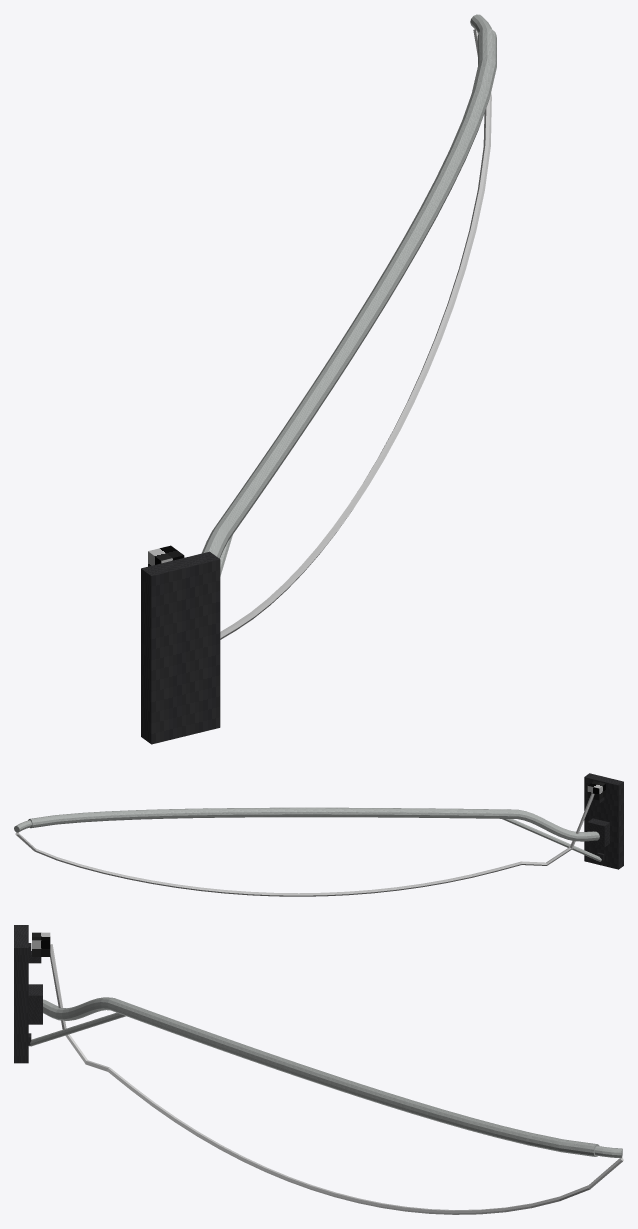
File: arm_6_right_wired.obj
3 renders of one model, top to bottom at view 1: azimuth 30°, elevation 25°; view 2: azimuth 150°, elevation 25°; view 3: azimuth 270°, elevation 25°, orthographic. The views are drawn at different scales.
Visible parts, largest first — view 1: pole_light_mount_6_right_wired; view 2: pole_light_mount_6_right_wired; view 3: pole_light_mount_6_right_wired.
Boxes of the visible parts, x1,y1,x2,y2 form: pole_light_mount_6_right_wired: (141,14,496,744); pole_light_mount_6_right_wired: (14,773,623,896); pole_light_mount_6_right_wired: (14,925,623,1214).
Size of the model in its own units: 4.22 by 1.21 by 4.2.
